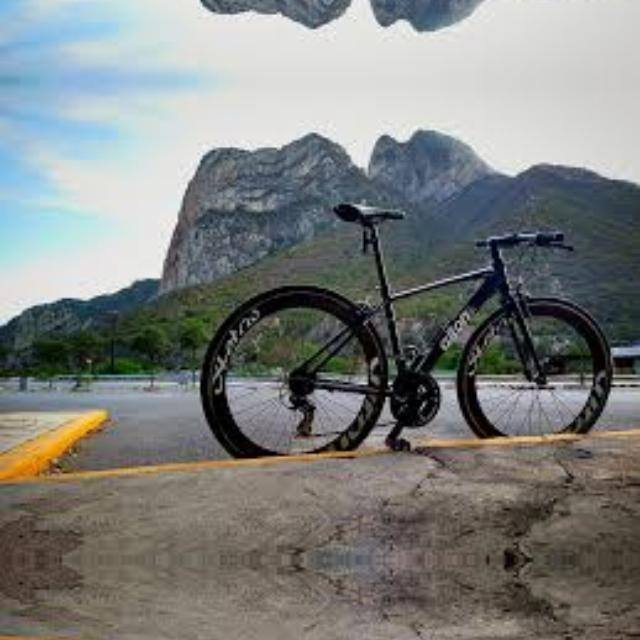obstacle: (171, 177, 633, 433)
